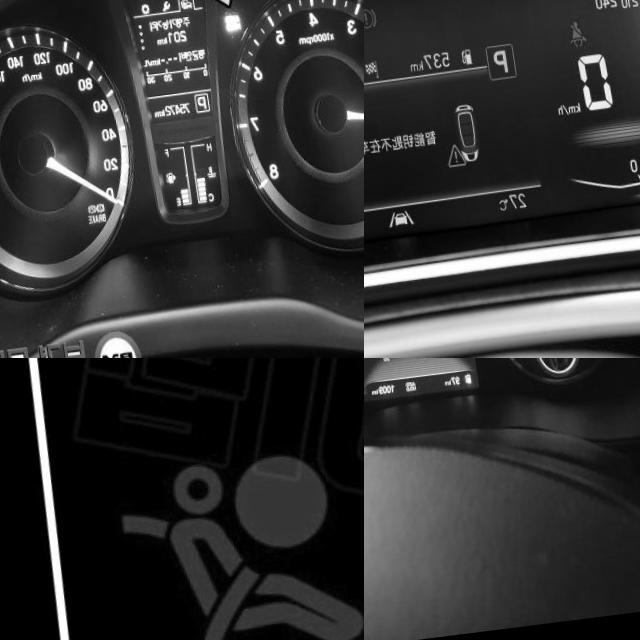Central Warning lamp: (433, 152, 455, 177)
LaneCenteringOff: (373, 217, 402, 237)
SideLamp: (242, 0, 259, 4)
